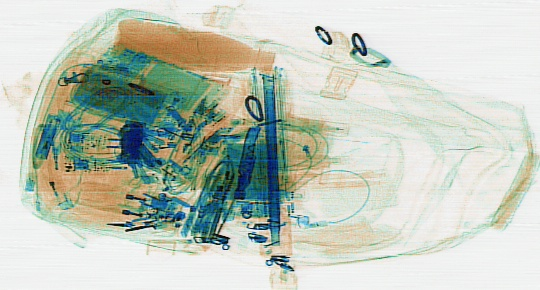lighter: (37, 155, 74, 208)
